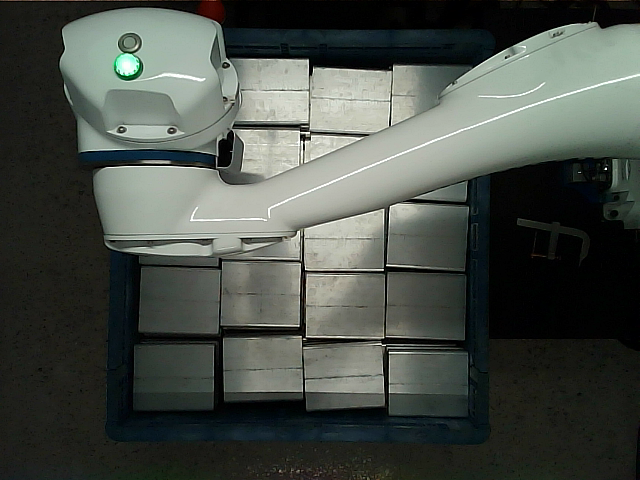green_light: (113, 53, 142, 80)
